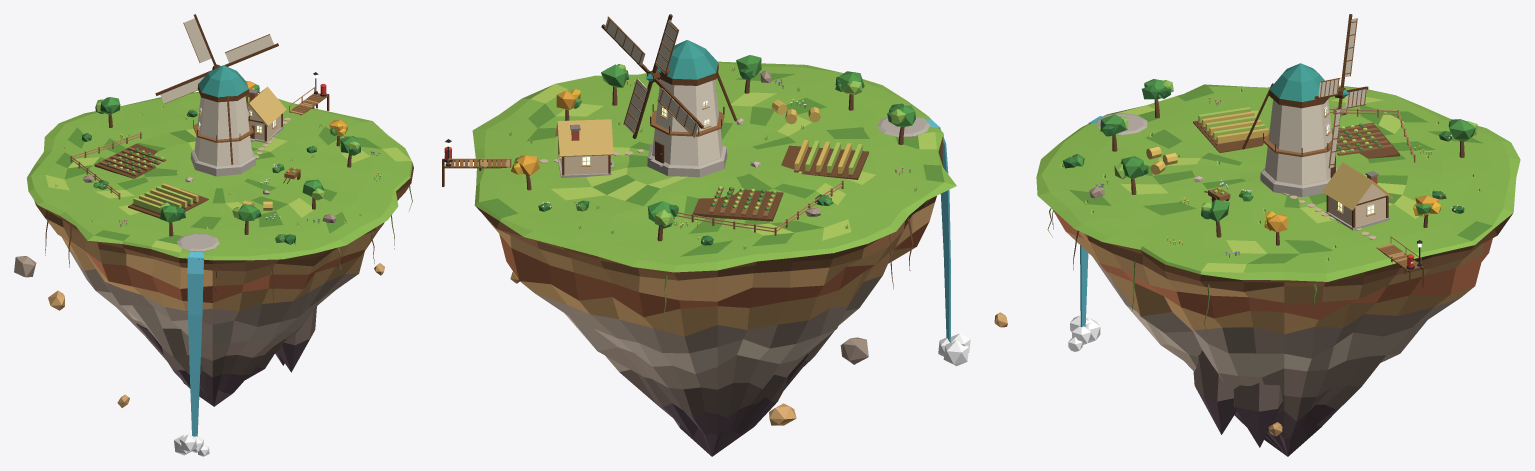
Rendered from island_windmill.glb.
The picture shows the model from 3 angles, left to right: view 1: azimuth 30°, elevation 25°; view 2: azimuth 150°, elevation 25°; view 3: azimuth 270°, elevation 25°; orthographic projection. The views are drawn at different scales.
Parts seen in each view (by area): view 1: Island-col, Dressing, Waterfall, SPIN_Sails, Debris, WaterfallPond, WaterfallMist, Roots; view 2: Island-col, Dressing, SPIN_Sails, Debris, Waterfall, WaterfallMist, WaterfallPond; view 3: Island-col, Dressing, SPIN_Sails, WaterfallMist, Waterfall.
Boxes of the visible parts, x1,y1,x2,y2 form: Island-col: (27,92,413,406); Dressing: (55,65,380,245); Waterfall: (187,251,203,436); SPIN_Sails: (155,14,278,116); Debris: (14,256,384,407); WaterfallPond: (177,233,219,251); WaterfallMist: (174,434,209,456); Roots: (45,186,412,318); Island-col: (472,61,956,456); Dressing: (442,40,917,249); SPIN_Sails: (601,14,703,138); Debris: (510,272,1007,425); Waterfall: (925,119,950,341); WaterfallMist: (938,333,970,366); WaterfallPond: (877,116,930,137); Island-col: (1036,84,1520,456); Dressing: (1060,63,1480,290); SPIN_Sails: (1314,14,1368,171); WaterfallMist: (1068,315,1100,351); Waterfall: (1080,116,1103,326).
Size of what is drawn, in the model's own units: 58.37 by 60.59 by 59.46.
